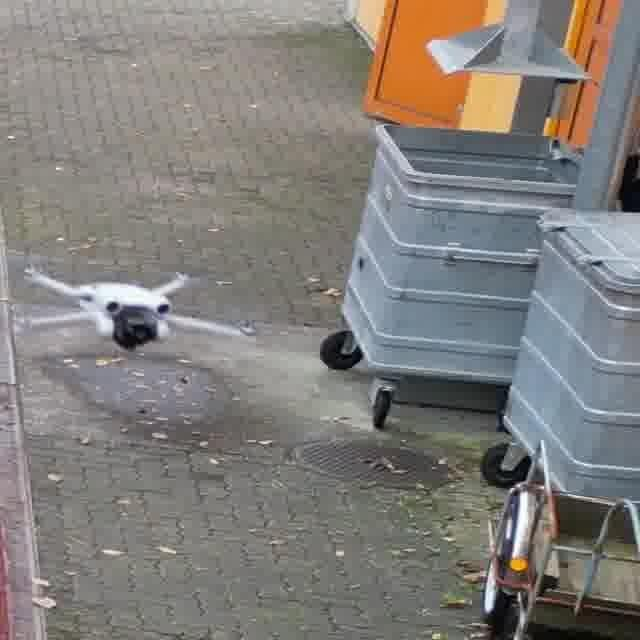Drohne: (25, 267, 254, 350)
